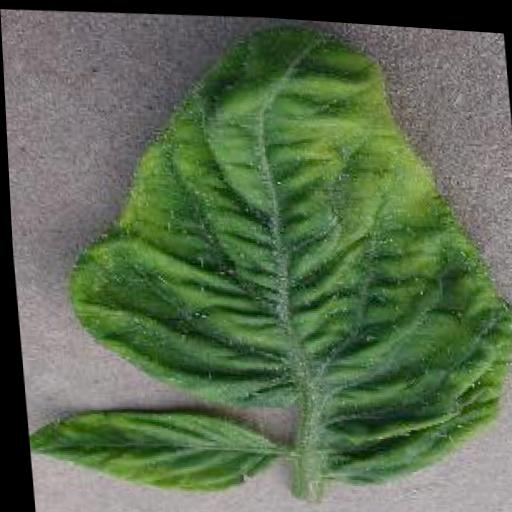Yellow Leaf Curl Virus: (48, 3, 512, 498), (23, 395, 279, 504)
